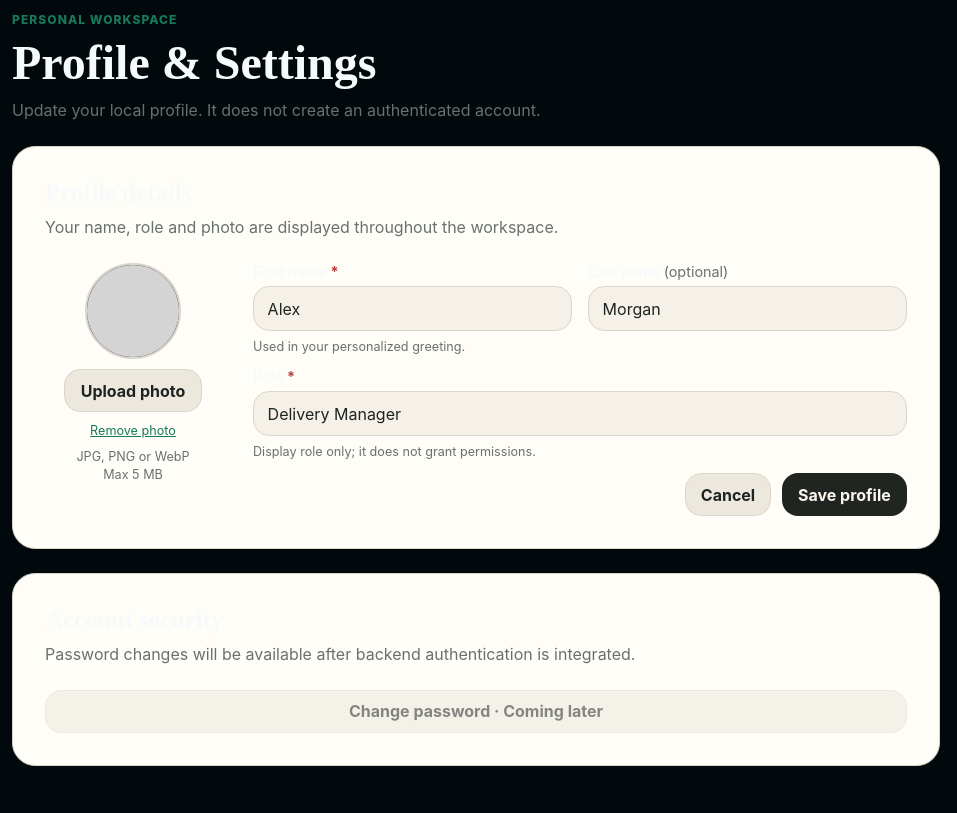
Test: SettingsPage › keeps the saved photo when removal cannot be persisted
Click the button "Remove photo": [133, 430] box [90,423,176,438]
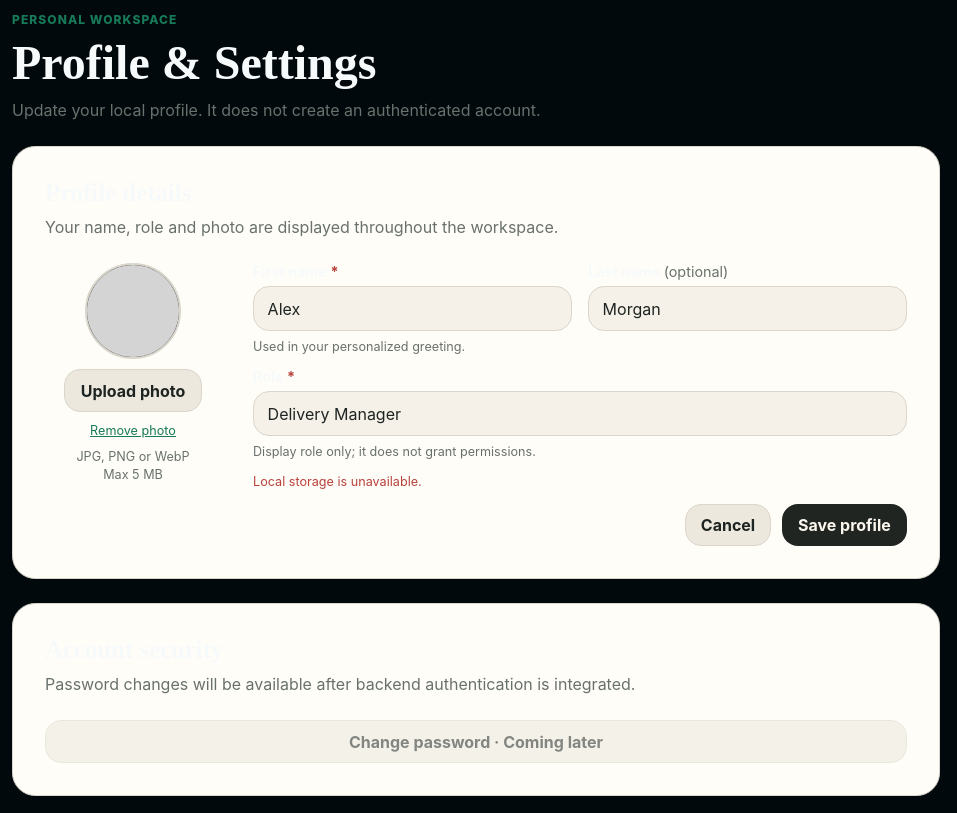
Check: the message reads "Local storage is unavailable.", box [253,474,422,489]
